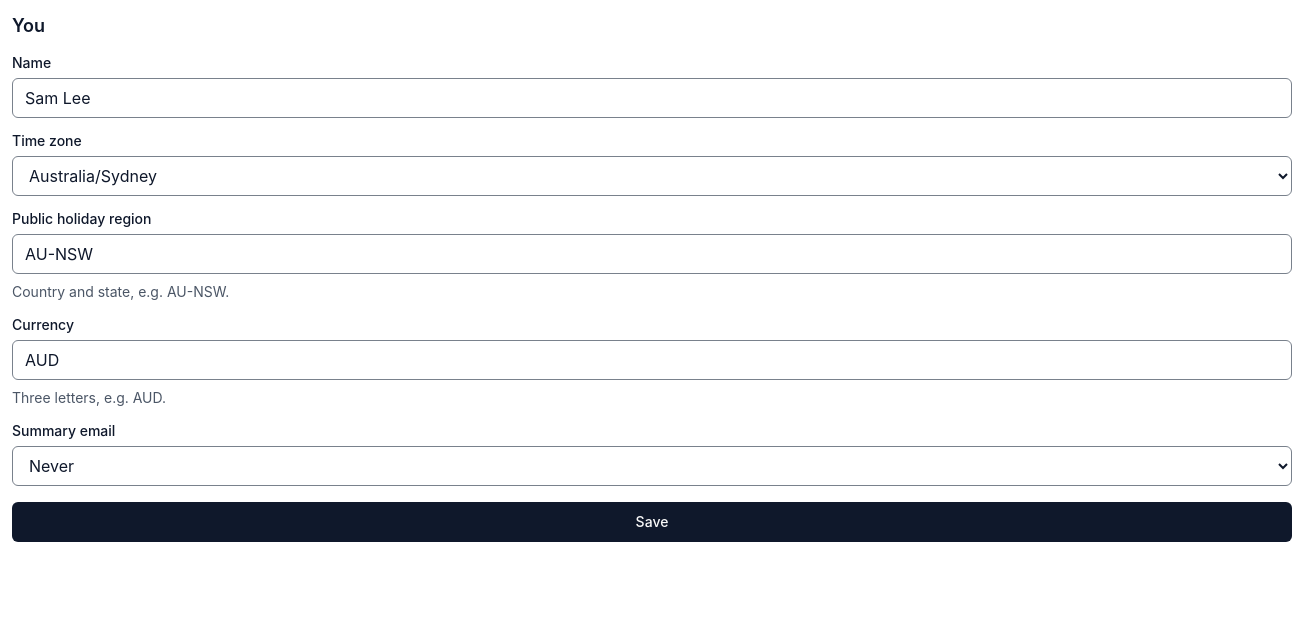
it: ProfileForm › shows the function error
This screenshot has width=1304, height=621.
Click the button "Save". click: x=652, y=522
box: [12,502,1292,542]
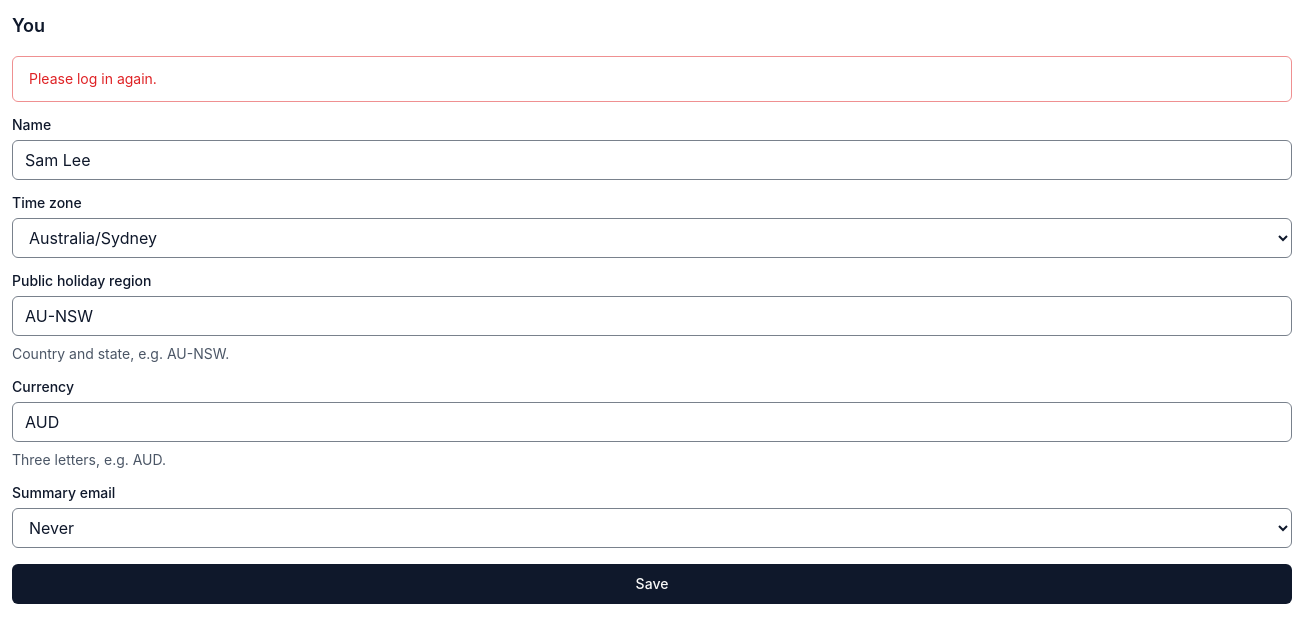
expect the message reads "Please log in again.": met, box [29,70,157,87]
